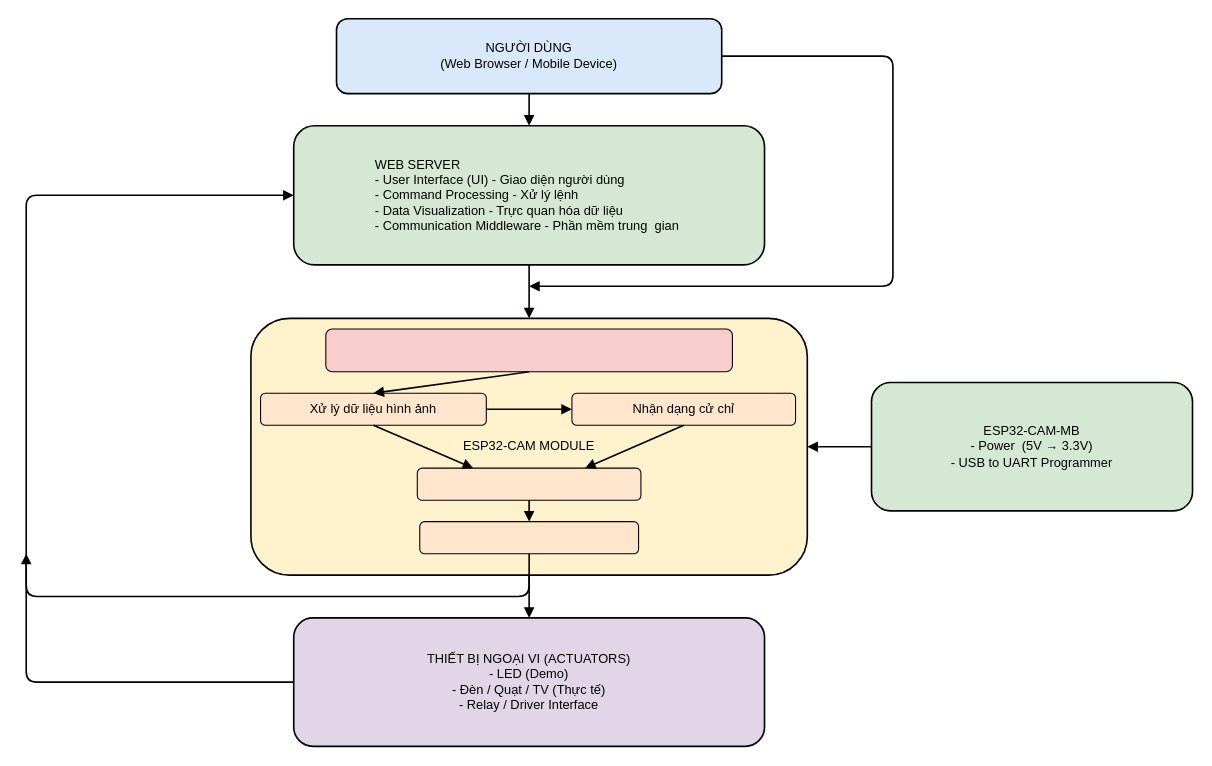
Some shapes in this 1212 by 766 pixel diagram are drawn without their labels. Here are the shapes that lost their labels. From the top down, the centre of each, then its label:
(528,350): Camera Module Thu nhập dữ liệu hình ảnh
(528,483): Logic điều kiển
(529,537): Giao tiếp mạng
